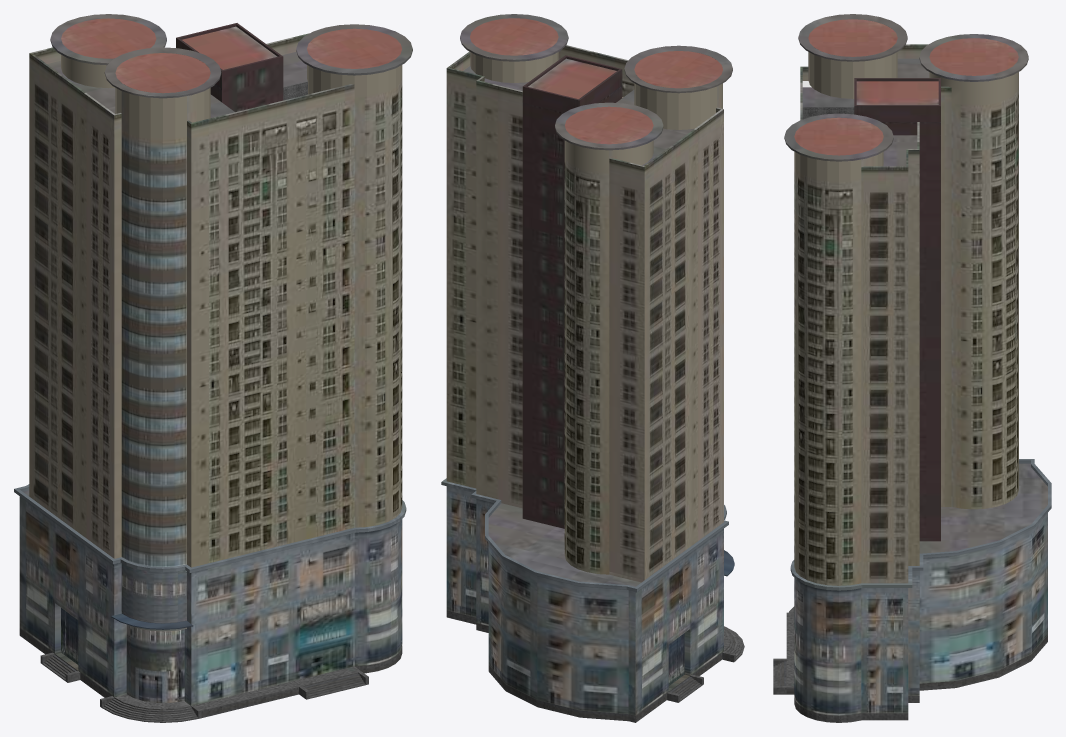
3 views of the same model, side by side, from view 1: azimuth 30°, elevation 25°; view 2: azimuth 150°, elevation 25°; view 3: azimuth 270°, elevation 25° (orthographic). The views are drawn at different scales.
Parts seen in each view (by area): view 1: HN1088_ChungCuCS113; view 2: HN1088_ChungCuCS113; view 3: HN1088_ChungCuCS113.
Part boxes in pixels (x1,y1,x2,y2): HN1088_ChungCuCS113: [14, 14, 412, 722]; HN1088_ChungCuCS113: [441, 14, 744, 722]; HN1088_ChungCuCS113: [773, 14, 1051, 722].
Size of the model in its own units: 42.95 by 86.22 by 37.36.
1 material, 1 textured.
